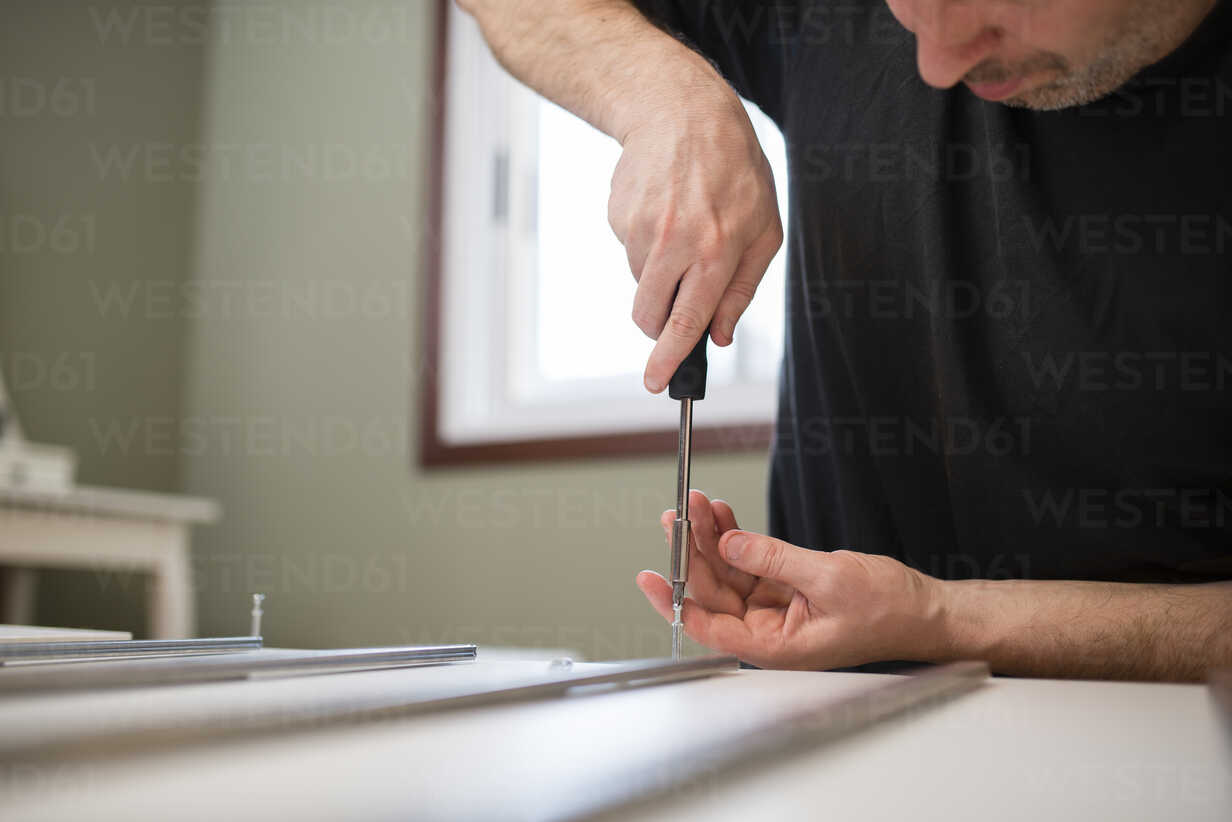screwdriver: (663, 249, 714, 613)
